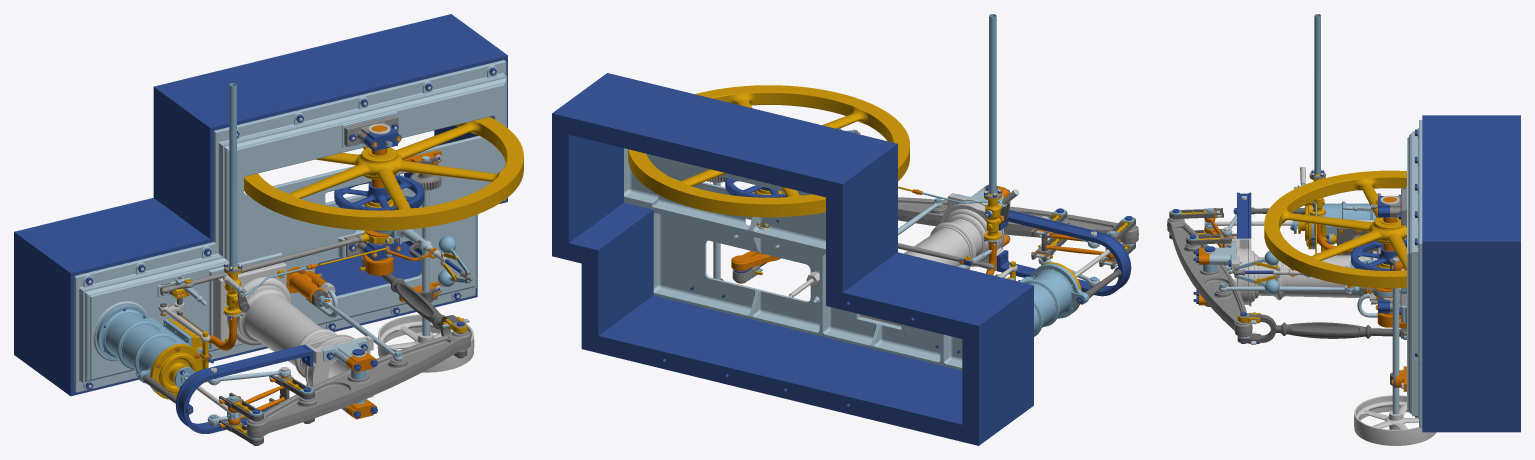
The model's file is assembly.glb.
The picture shows the model from 3 angles, left to right: view 1: azimuth 30°, elevation 25°; view 2: azimuth 150°, elevation 25°; view 3: azimuth 270°, elevation 25°; orthographic projection. The views are drawn at different scales.
Visible parts, largest first — view 1: KFTH_100, KFbK_42, KFnH_197, KFXK_302, KFvJ_59, KFLK_290, KFTK_206, KFXH_35, KFTD_160, KFHK_331, KFLC_274, KFjI_202 (+8 smaller); view 2: KFTH_100, KFbK_42, KFnH_197, KFXK_302, KFTK_206, KFLK_290, KFvJ_59, KFLC_274, KFfI_269, KFHE_114; view 3: KFTH_100, KFnH_197, KFbK_42, KFvJ_59, KFXK_302, KFXH_35, KFjI_202, KFLC_274, KFbH_358, KFLK_290, KFTD_160, KFTK_206 (+6 smaller).
Boxes of the visible parts, left/top/right/bottom form: KFTH_100: left=14, top=14, right=507, bottom=396; KFbK_42: left=74, top=60, right=506, bottom=392; KFnH_197: left=244, top=117, right=523, bottom=230; KFXK_302: left=213, top=262, right=373, bottom=397; KFvJ_59: left=246, top=331, right=470, bottom=438; KFLK_290: left=96, top=304, right=198, bottom=392; KFTK_206: left=175, top=344, right=313, bottom=433; KFXH_35: left=377, top=314, right=474, bottom=372; KFTD_160: left=334, top=174, right=424, bottom=210; KFHK_331: left=150, top=344, right=202, bottom=399; KFLC_274: left=229, top=83, right=236, bottom=267; KFjI_202: left=375, top=273, right=460, bottom=336; KFTH_100: left=552, top=73, right=1033, bottom=445; KFbK_42: left=624, top=148, right=962, bottom=370; KFnH_197: left=628, top=85, right=909, bottom=217; KFXK_302: left=860, top=193, right=1006, bottom=326; KFTK_206: left=997, top=210, right=1131, bottom=296; KFLK_290: left=1009, top=263, right=1088, bottom=336; KFvJ_59: left=898, top=197, right=1138, bottom=244; KFLC_274: left=989, top=14, right=996, bottom=194; KFfI_269: left=731, top=227, right=780, bottom=283; KFHE_114: left=984, top=195, right=1001, bottom=240; KFTH_100: left=1422, top=115, right=1520, bottom=432; KFnH_197: left=1264, top=170, right=1406, bottom=288; KFbK_42: left=1401, top=120, right=1422, bottom=427; KFvJ_59: left=1167, top=217, right=1252, bottom=337; KFXK_302: left=1232, top=238, right=1380, bottom=306; KFXH_35: left=1354, top=395, right=1436, bottom=445; KFjI_202: left=1249, top=314, right=1406, bottom=342; KFLC_274: left=1314, top=14, right=1320, bottom=174; KFbH_358: left=1392, top=257, right=1399, bottom=414; KFLK_290: left=1311, top=201, right=1376, bottom=249; KFTD_160: left=1351, top=239, right=1406, bottom=270; KFTK_206: left=1237, top=192, right=1251, bottom=278.
Bounding box in the file's own units: 0.4104 × 0.3231 × 0.3304.
